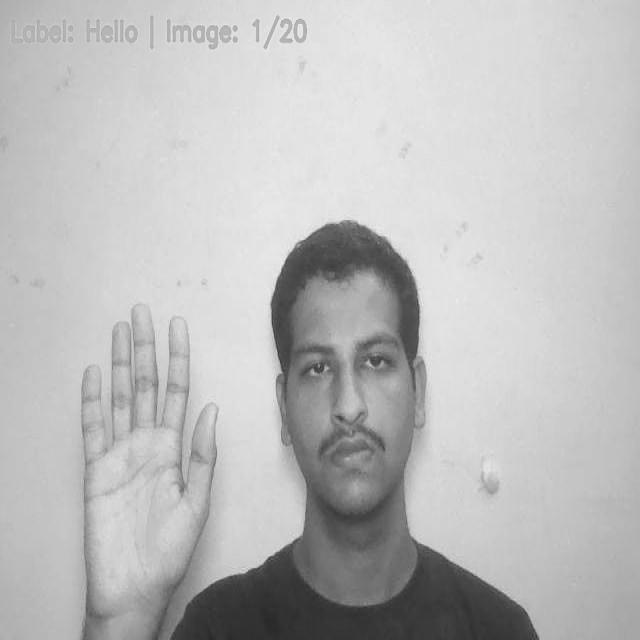Hello: (75, 289, 220, 596)
